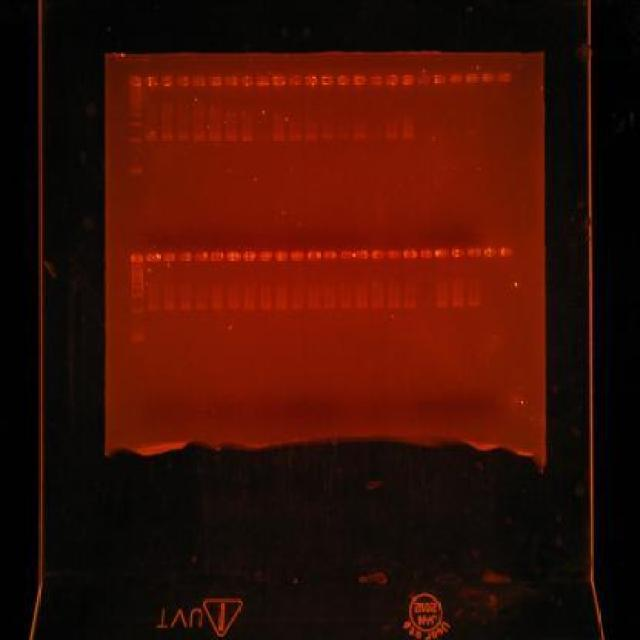B: (146, 304, 160, 312), (162, 304, 176, 312), (338, 302, 352, 310), (258, 304, 272, 312), (176, 133, 190, 141), (224, 134, 238, 142), (384, 132, 398, 140), (195, 303, 208, 311), (435, 300, 448, 308), (371, 302, 384, 310), (468, 300, 480, 308), (404, 302, 416, 310), (388, 302, 400, 310), (450, 301, 464, 307), (227, 304, 241, 310), (243, 304, 257, 310), (307, 303, 321, 309), (290, 304, 304, 310), (274, 304, 288, 310), (144, 134, 158, 140), (208, 134, 222, 140), (239, 134, 253, 140), (272, 134, 286, 140), (320, 134, 334, 140), (288, 134, 302, 140), (400, 132, 414, 138), (256, 134, 270, 140), (178, 304, 191, 310), (355, 302, 368, 308), (210, 304, 223, 310), (465, 130, 478, 136), (161, 133, 174, 139), (192, 134, 205, 140), (305, 134, 318, 140), (324, 304, 336, 310), (354, 133, 366, 139), (370, 132, 382, 138), (338, 134, 350, 138)
L: (128, 243, 517, 265)
M: (127, 74, 144, 177), (130, 252, 146, 346)
P: (131, 332, 144, 342), (129, 166, 143, 174), (128, 137, 142, 145), (129, 111, 142, 118), (130, 292, 144, 298), (128, 121, 142, 127), (131, 308, 144, 314), (131, 284, 144, 290), (131, 279, 144, 284), (129, 106, 142, 111), (131, 274, 144, 278), (129, 103, 142, 106), (130, 100, 142, 103)
Pc: (416, 72, 432, 86), (304, 74, 318, 88), (288, 74, 302, 88), (240, 74, 254, 88), (384, 74, 399, 86), (466, 247, 482, 258), (386, 249, 402, 260), (496, 72, 512, 83), (448, 74, 464, 85), (432, 74, 448, 85), (194, 250, 208, 262), (226, 250, 240, 262), (258, 250, 272, 262), (403, 248, 417, 260), (400, 74, 414, 86), (369, 74, 383, 86), (353, 74, 367, 86), (336, 74, 350, 86), (451, 247, 466, 258), (371, 249, 386, 260), (338, 249, 353, 260), (146, 252, 160, 263), (210, 250, 224, 261), (242, 250, 256, 261), (499, 246, 513, 257), (483, 246, 497, 257), (356, 249, 370, 260), (323, 249, 337, 260), (307, 249, 321, 260), (290, 250, 304, 261), (274, 250, 288, 261), (128, 76, 142, 87), (144, 76, 158, 87), (160, 76, 174, 87), (176, 76, 190, 87), (466, 73, 480, 84), (192, 76, 206, 87), (256, 76, 270, 87), (434, 248, 449, 258), (131, 252, 144, 263), (162, 252, 176, 262), (178, 252, 192, 262), (419, 248, 433, 258), (208, 76, 222, 86), (224, 76, 238, 86), (272, 76, 286, 86), (481, 73, 496, 82), (321, 76, 334, 86)
